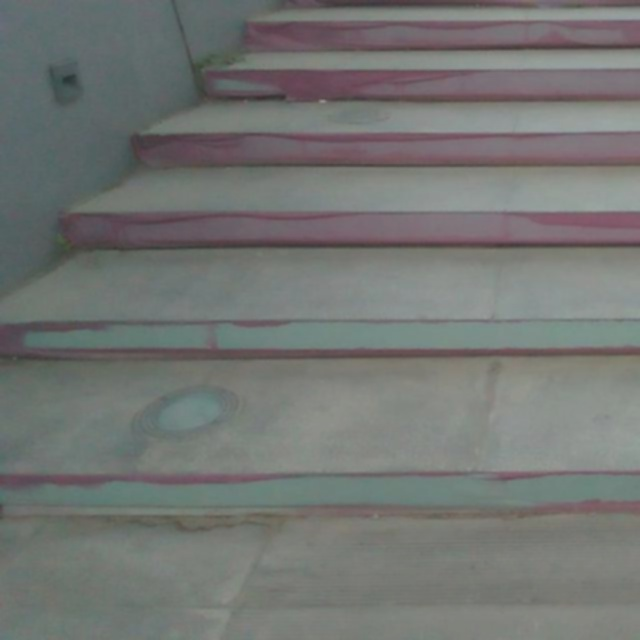stair: (23, 3, 640, 527)
